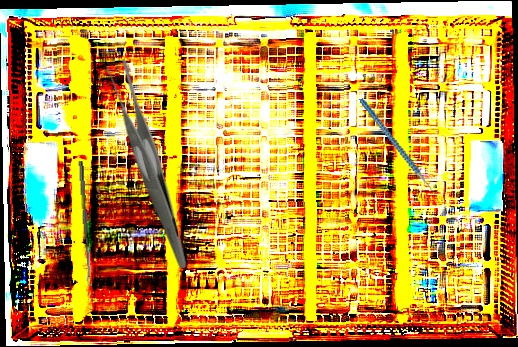Chopper: (359, 83, 445, 211)
Dressing Forceps: (107, 59, 186, 268)
Surgical Spoon: (78, 160, 92, 287)
